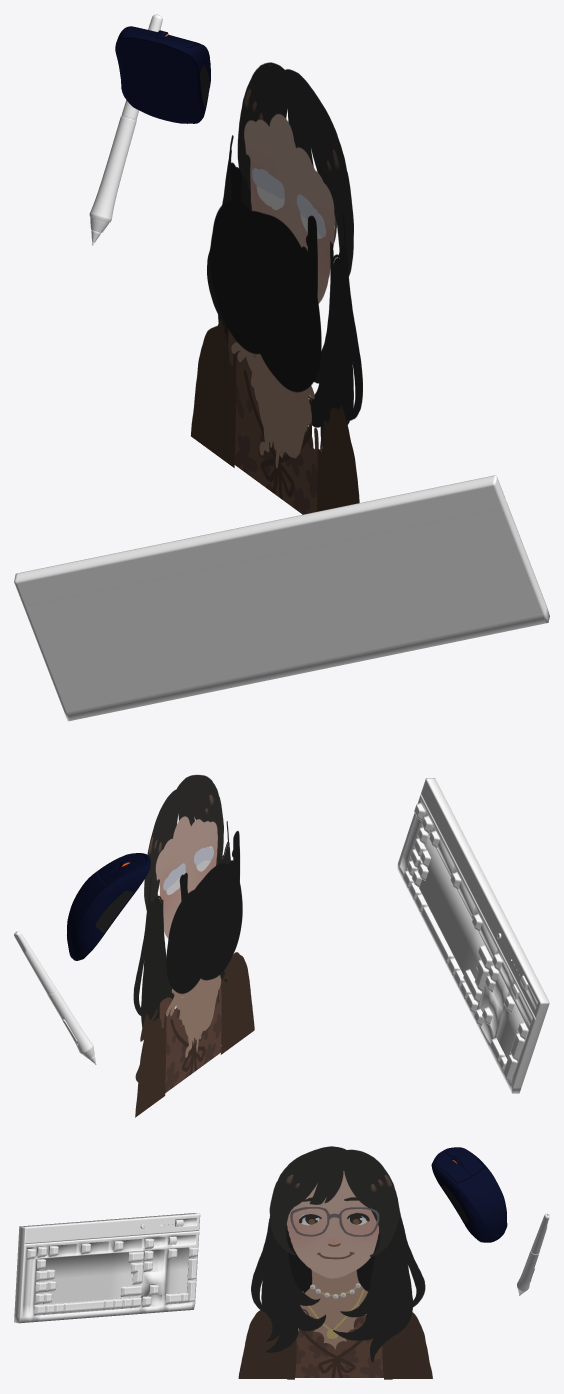
File: hero.glb
3 renders of one model, top to bottom at view 1: azimuth 30°, elevation 25°; view 2: azimuth 150°, elevation 25°; view 3: azimuth 270°, elevation 25°, orthographic. The views are drawn at different scales.
Visible parts, largest first — view 1: Cube.041, hair back, bangs, jacket, Black Mouse, head, hair front, top, neck, Digital Pen Display Stylus.002, whites; view 2: Cube.041, hair back, Black Mouse, jacket, bangs, hair front, head, top, neck, Digital Pen Display Stylus.002, whites, Cube.032 (+1 smaller); view 3: Cube.041, hair front, bangs, head, Black Mouse, top, accessories, jacket, neck, hair back, Digital Pen Display Stylus.002, glasses (+2 smaller).
Part boxes in pixels (box(x1,y1,x2,y2)): Cube.041: box(14, 475, 549, 721); hair back: box(210, 162, 321, 392); bangs: box(237, 62, 353, 276); jacket: box(191, 323, 359, 511); Black Mouse: box(115, 26, 210, 123); head: box(244, 114, 335, 303); hair front: box(207, 135, 362, 443); top: box(228, 329, 318, 514); neck: box(231, 342, 314, 468); Digital Pen Display Stylus.002: box(89, 14, 162, 245); whites: box(252, 168, 326, 238); Cube.041: box(397, 778, 549, 1093); hair back: box(166, 831, 242, 993); Black Mouse: box(67, 853, 150, 960); jacket: box(135, 952, 254, 1117); bangs: box(144, 774, 223, 910); hair front: box(133, 821, 230, 1027); head: box(155, 816, 217, 938); top: box(159, 987, 221, 1092); neck: box(166, 975, 221, 1057); Digital Pen Display Stylus.002: box(14, 931, 96, 1064); whites: box(163, 846, 213, 895); Cube.032: box(421, 905, 453, 964); Cube.041: box(14, 1213, 200, 1323); hair front: box(251, 1209, 425, 1362); bangs: box(269, 1146, 399, 1256); head: box(287, 1172, 378, 1278); Black Mouse: box(431, 1147, 507, 1242); top: box(295, 1308, 383, 1377); accessories: box(254, 1283, 424, 1379); jacket: box(238, 1286, 432, 1378); neck: box(300, 1270, 367, 1349); hair back: box(287, 1230, 376, 1293); Digital Pen Display Stylus.002: box(517, 1213, 549, 1295); glasses: box(290, 1206, 379, 1236).
Size of the model in its own units: 8.34 by 8 by 14.93.
Materials: 29 (17 with a texture image).
